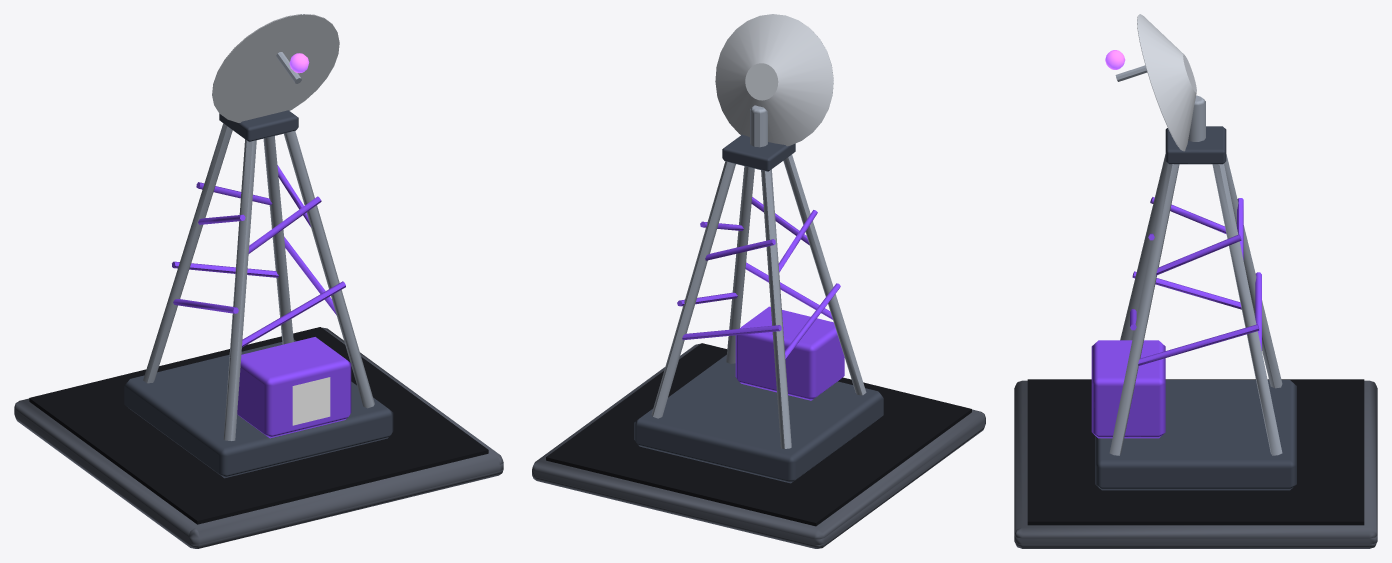
The model's file is route53.glb.
3 views of the same model, side by side, from view 1: azimuth 30°, elevation 25°; view 2: azimuth 150°, elevation 25°; view 3: azimuth 270°, elevation 25° (orthographic). The views are drawn at different scales.
Parts seen in each view (by area): view 1: body.rubber, body.steel, body.concrete, body.steel_light, body.accent, spin_dish.white, body.badge; view 2: body.rubber, body.steel, spin_dish.white, body.concrete, body.steel_light, body.accent, spin_dish.steel_light; view 3: body.rubber, body.steel, body.concrete, body.steel_light, body.accent, spin_dish.white, spin_dish.steel_light.
Part boxes in pixels (<box>): body.rubber: <box>29,327,488,524</box>; body.steel: <box>124,110,393,478</box>; body.concrete: <box>14,327,503,548</box>; body.steel_light: <box>143,123,374,440</box>; body.accent: <box>172,165,351,438</box>; spin_dish.white: <box>212,14,339,122</box>; body.badge: <box>292,377,330,425</box>; body.rubber: <box>546,343,971,526</box>; body.steel: <box>634,134,883,483</box>; spin_dish.white: <box>715,14,833,146</box>; body.concrete: <box>532,343,985,548</box>; body.steel_light: <box>651,154,866,448</box>; body.accent: <box>677,197,844,400</box>; spin_dish.steel_light: <box>750,105,767,147</box>; body.rubber: <box>1027,379,1364,525</box>; body.steel: <box>1095,126,1296,490</box>; body.concrete: <box>1014,380,1377,548</box>; body.steel_light: <box>1109,154,1282,455</box>; body.accent: <box>1091,197,1261,438</box>; spin_dish.white: <box>1137,14,1196,151</box>; spin_dish.steel_light: <box>1115,65,1205,141</box>.
Bounding box in the file's own units: 1.08 × 1.49 × 1.08.
